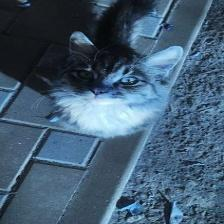kedo: (48, 0, 184, 138)
